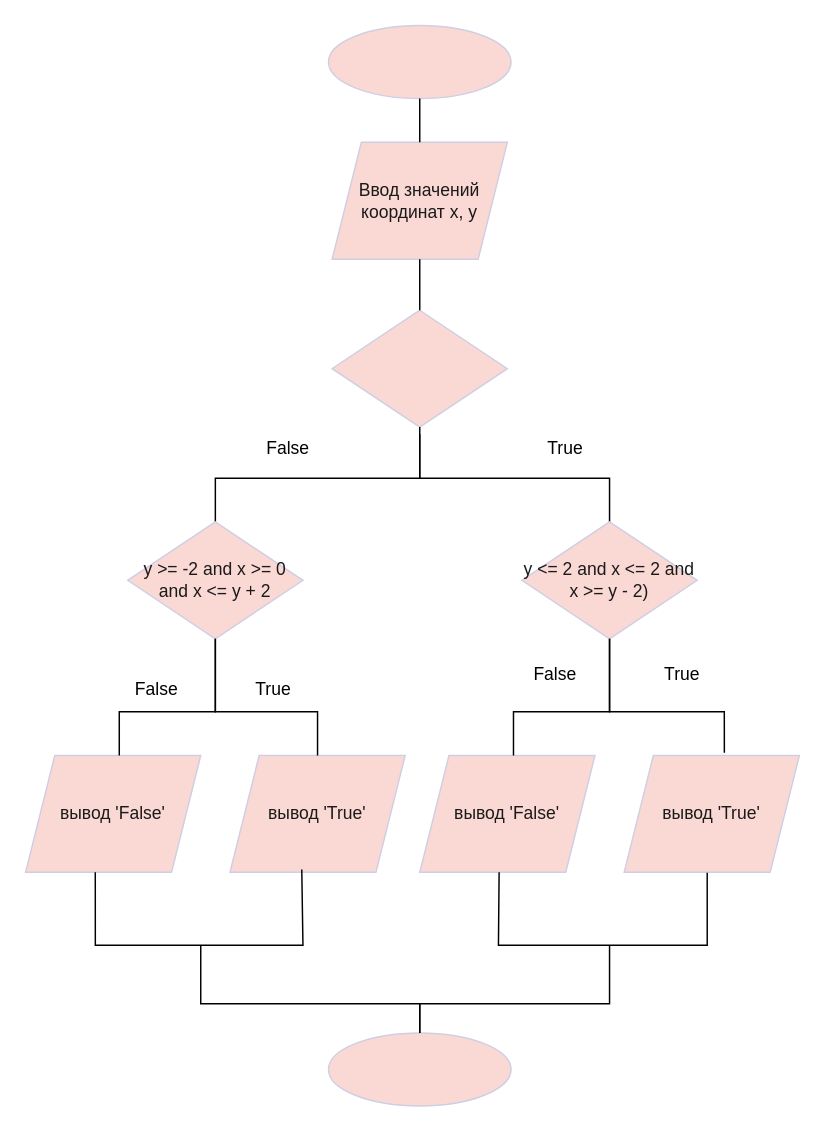
This 825x1132 diagram has some shape labels left out. Here are the shapes that lost their labels. From the top down, the box of each, then its label:
(327, 24, 511, 99): Начало
(331, 309, 507, 427): y >= 0
(327, 1031, 511, 1106): Конец
